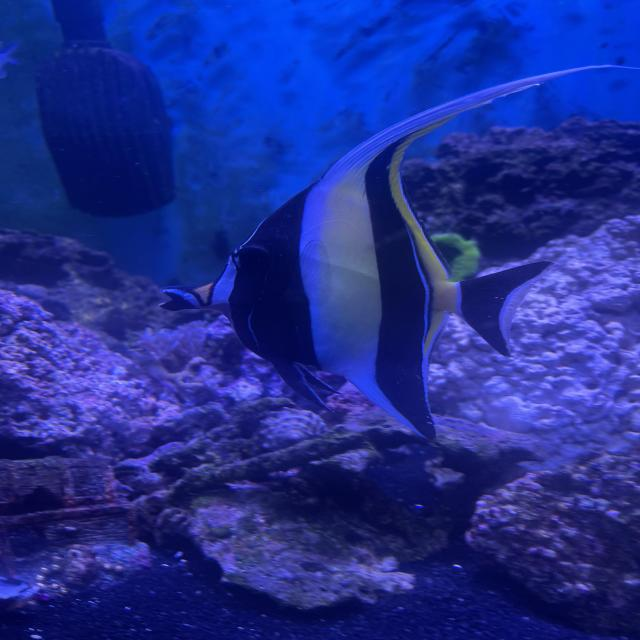MorishIdol: (156, 62, 638, 441)
